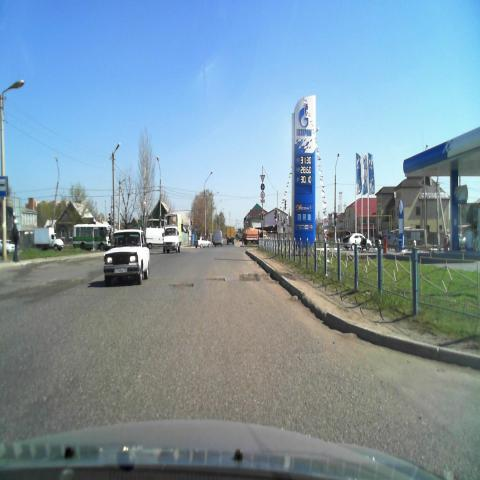5_16: (0, 177, 10, 200)
